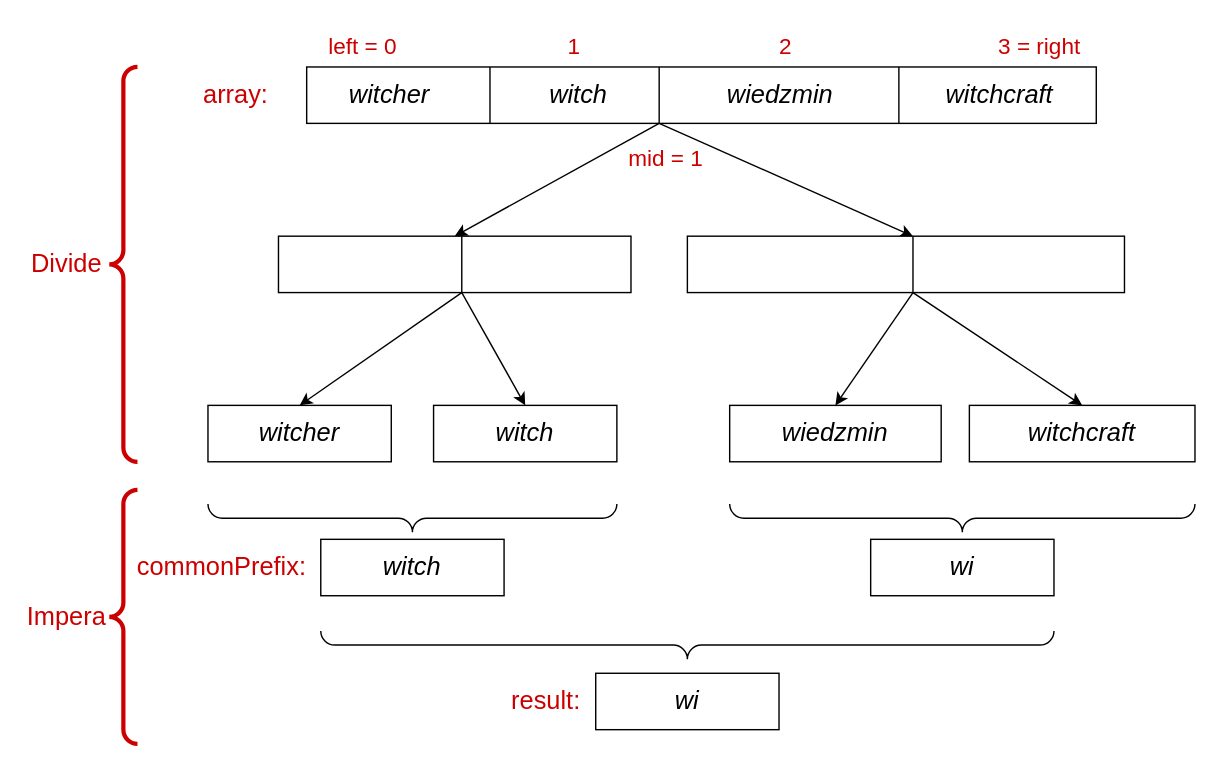
Some shapes in this 1220 by 770 pixel diagram are drawn without their labels. The shapes that lost their labels are listed below. From the top down, each one's centre as x and y in pixels, then its label:
the point at 454,264: witcher witch
the point at 905,264: wiedzmin witchcraft
